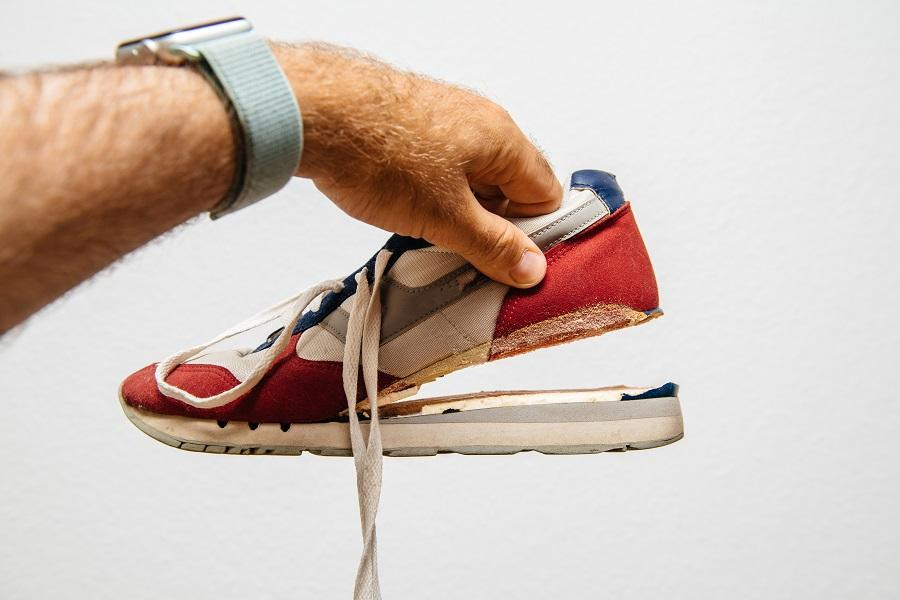bonding: (331, 301, 681, 424)
